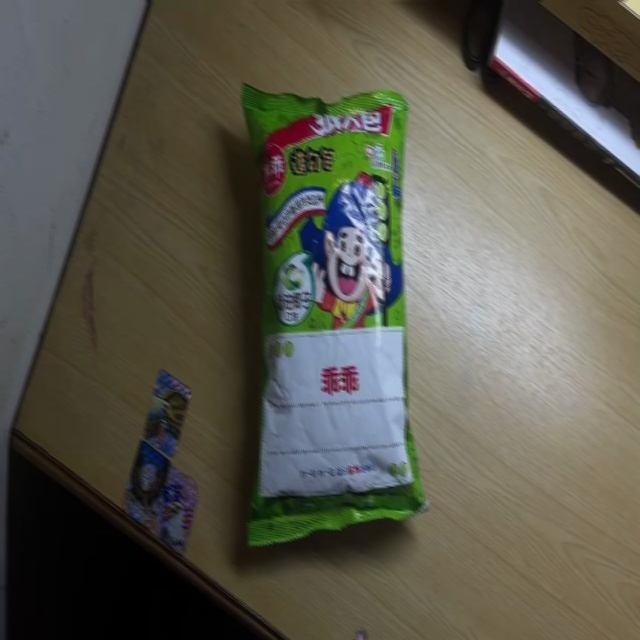Good-Luck: (240, 74, 428, 550)
